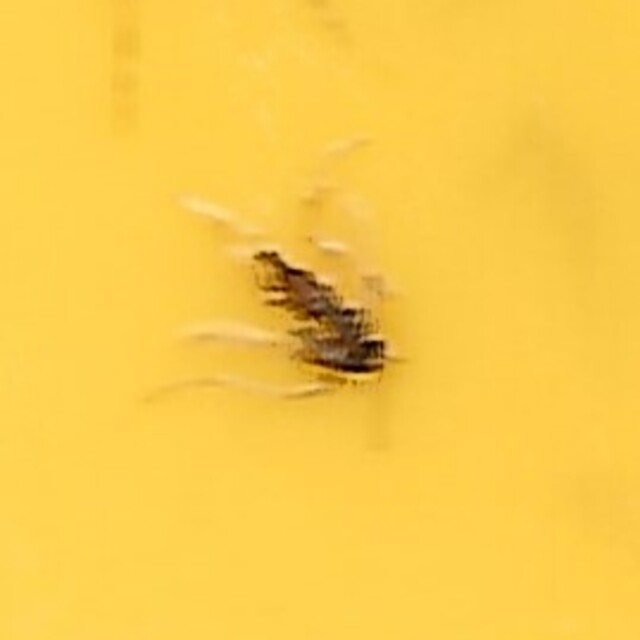Nematocera: (238, 230, 402, 410)
